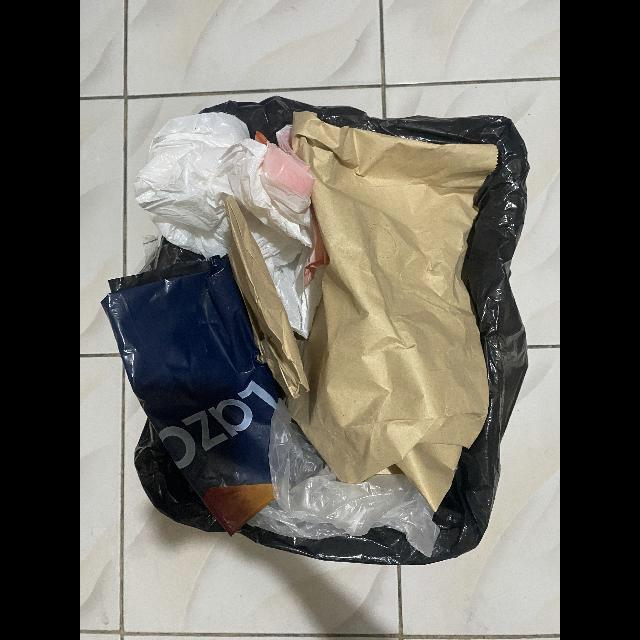paper: (286, 111, 499, 513), (224, 196, 309, 402)
plastic_bag: (101, 251, 290, 540), (132, 113, 330, 337), (250, 399, 440, 556)
